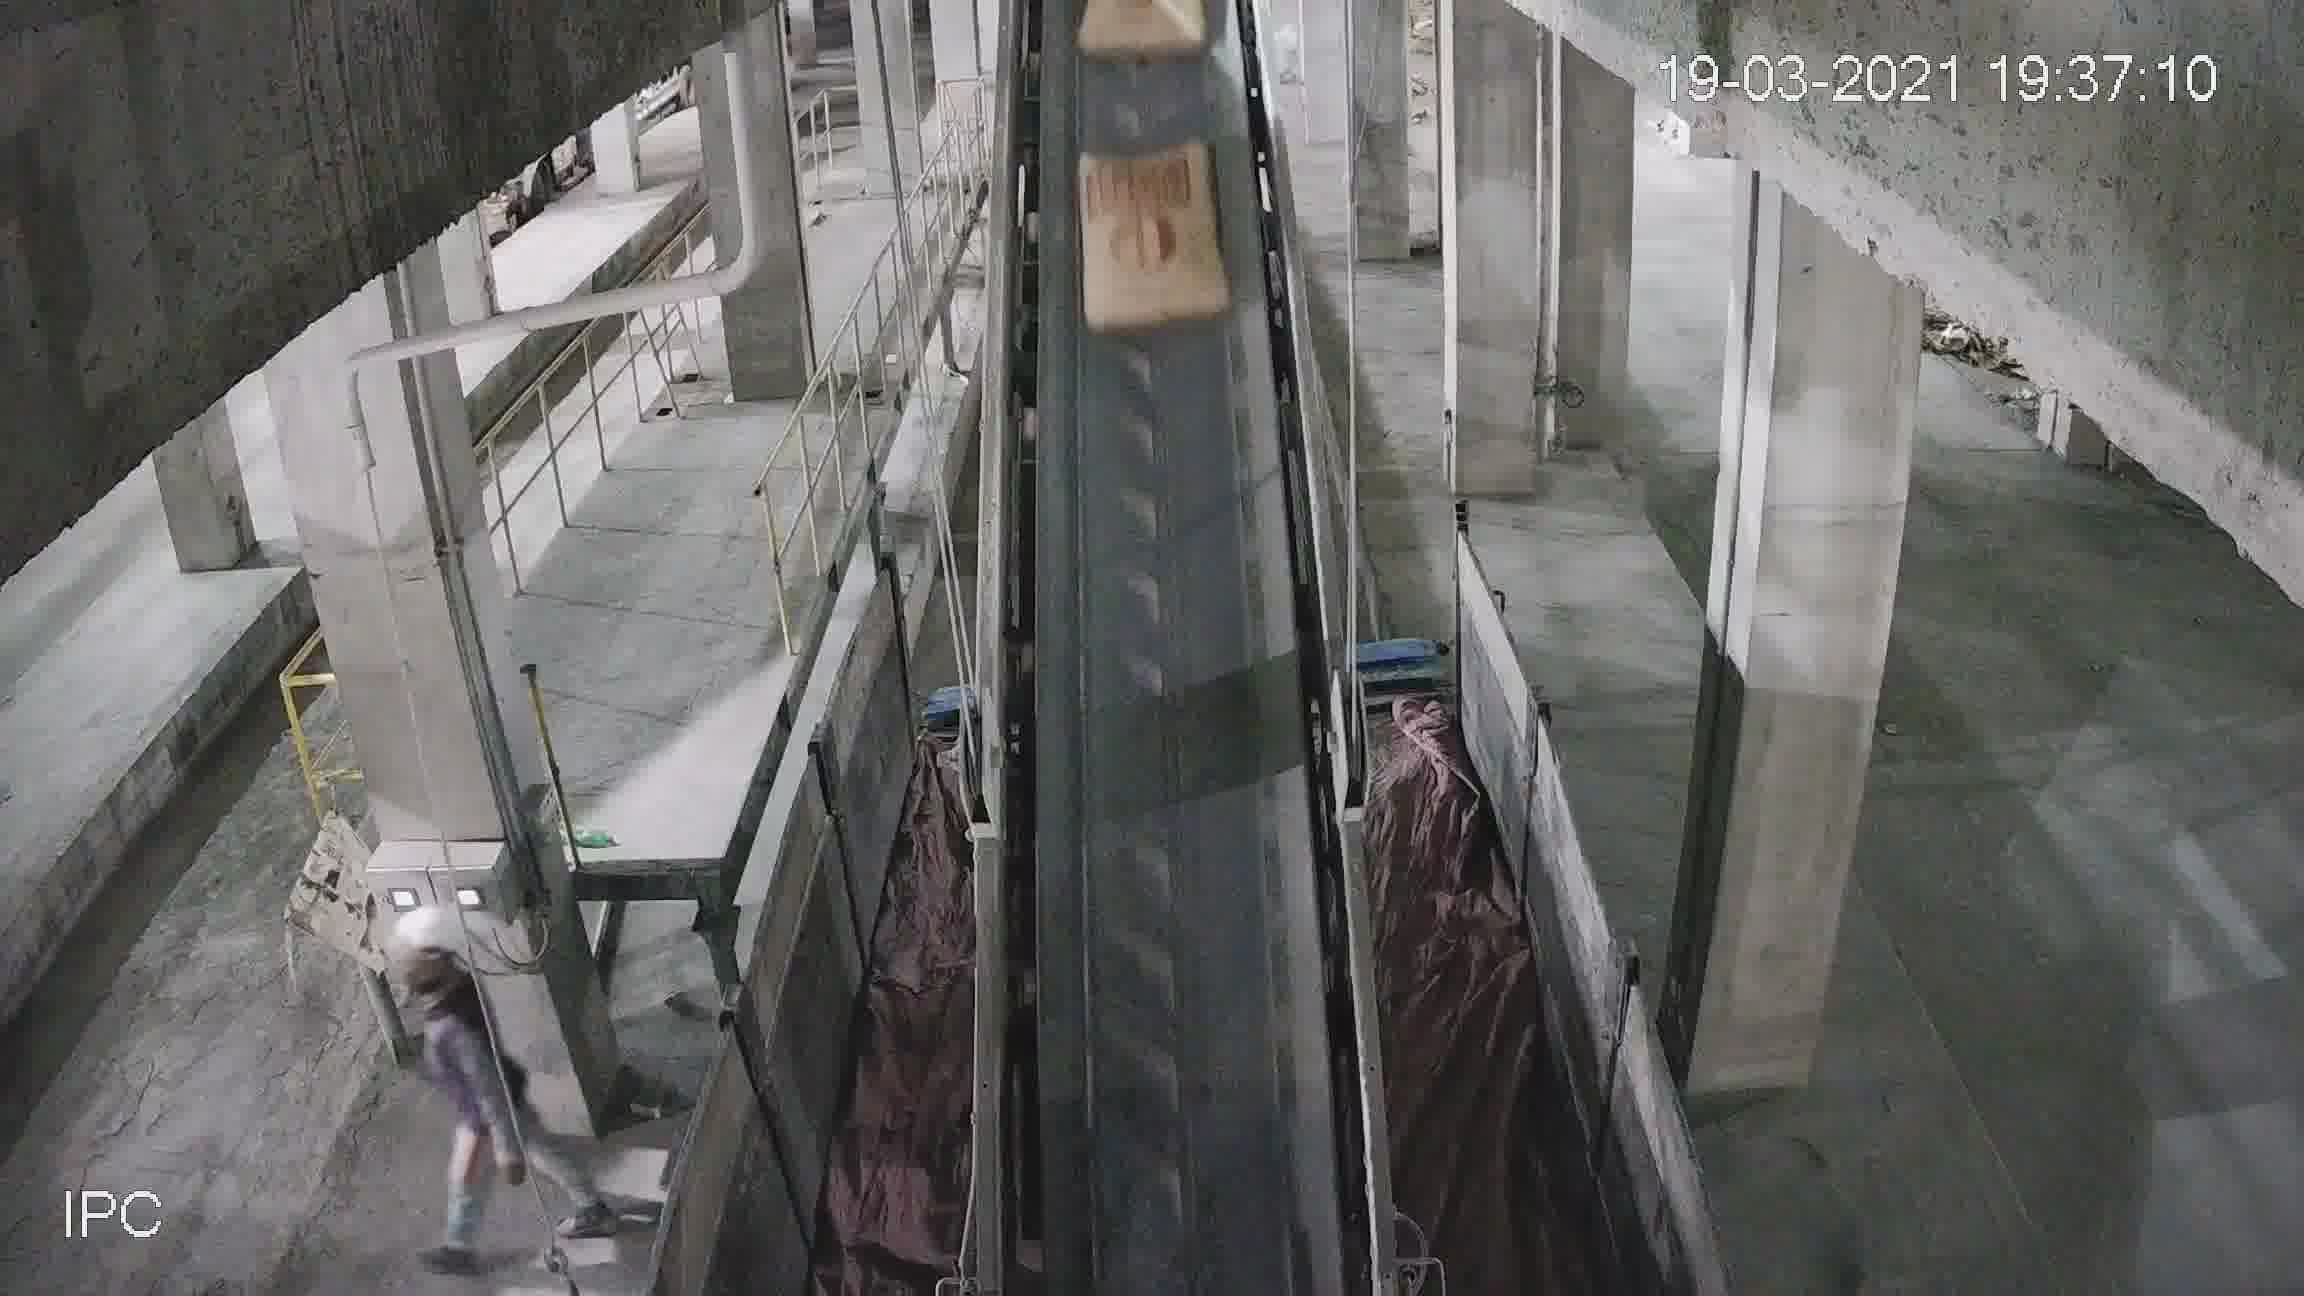bag: (1079, 155, 1220, 321), (1074, 6, 1203, 59)
belt: (981, 133, 1340, 1161)
